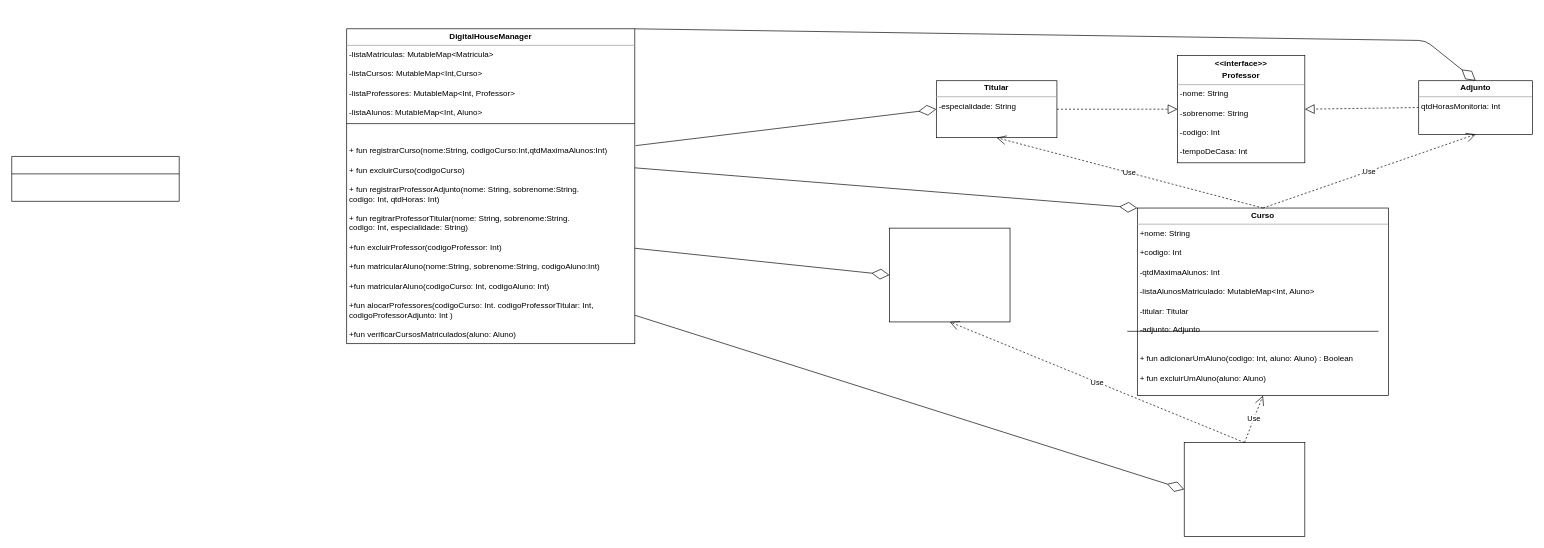
This 1544x548 diagram has some shape labels left out. The centre of each missing label's shape, as x and y in pixels:
Aluno +nome: String +sobrenome: String +codigo: Int +cursosMatriculados<Cursos>: (x=949, y=274)
Main: (x=95, y=178)
Matricula -aluno: Aluno -curso: Curso -data: Date: (x=1244, y=489)
